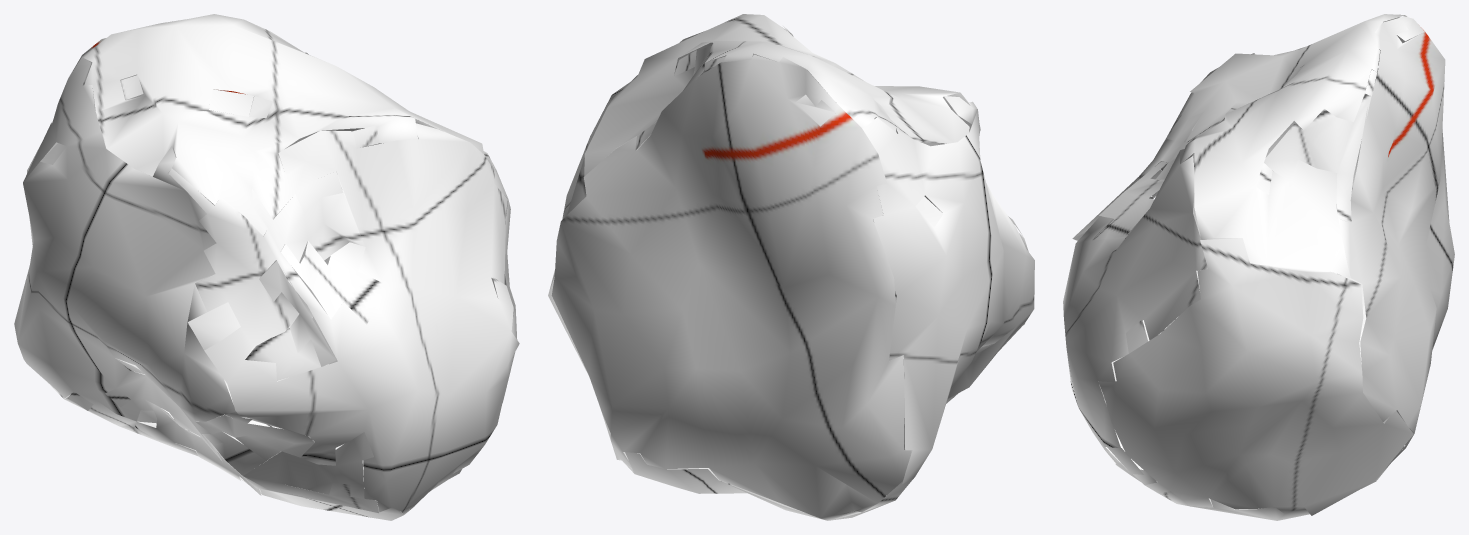
Rendered from asteroide4.obj.
3 views of the same model, side by side, from view 1: azimuth 30°, elevation 25°; view 2: azimuth 150°, elevation 25°; view 3: azimuth 270°, elevation 25° (orthographic). The views are drawn at different scales.
Visible parts, largest first — view 1: Asteroid_no_4_Material_#3_0; view 2: Asteroid_no_4_Material_#3_0; view 3: Asteroid_no_4_Material_#3_0.
Part boxes in pixels (<box>): Asteroid_no_4_Material_#3_0: <box>14,14,519,520</box>; Asteroid_no_4_Material_#3_0: <box>548,14,1034,520</box>; Asteroid_no_4_Material_#3_0: <box>1063,14,1454,520</box>.
Bounding box in the file's own units: 0.6848 × 0.714 × 0.6026.
